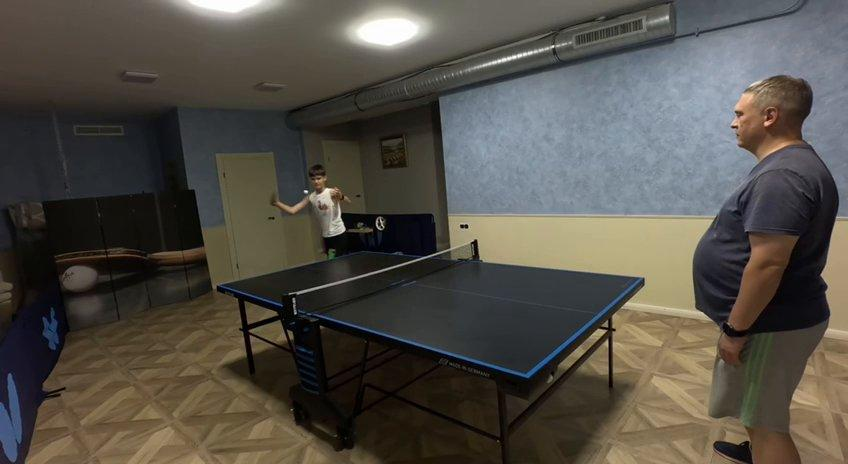Ball: (302, 189, 311, 196)
Net: (282, 241, 479, 323)
Player1: (694, 75, 838, 463)
Player2: (273, 165, 349, 256)
Table: (225, 254, 643, 375)
